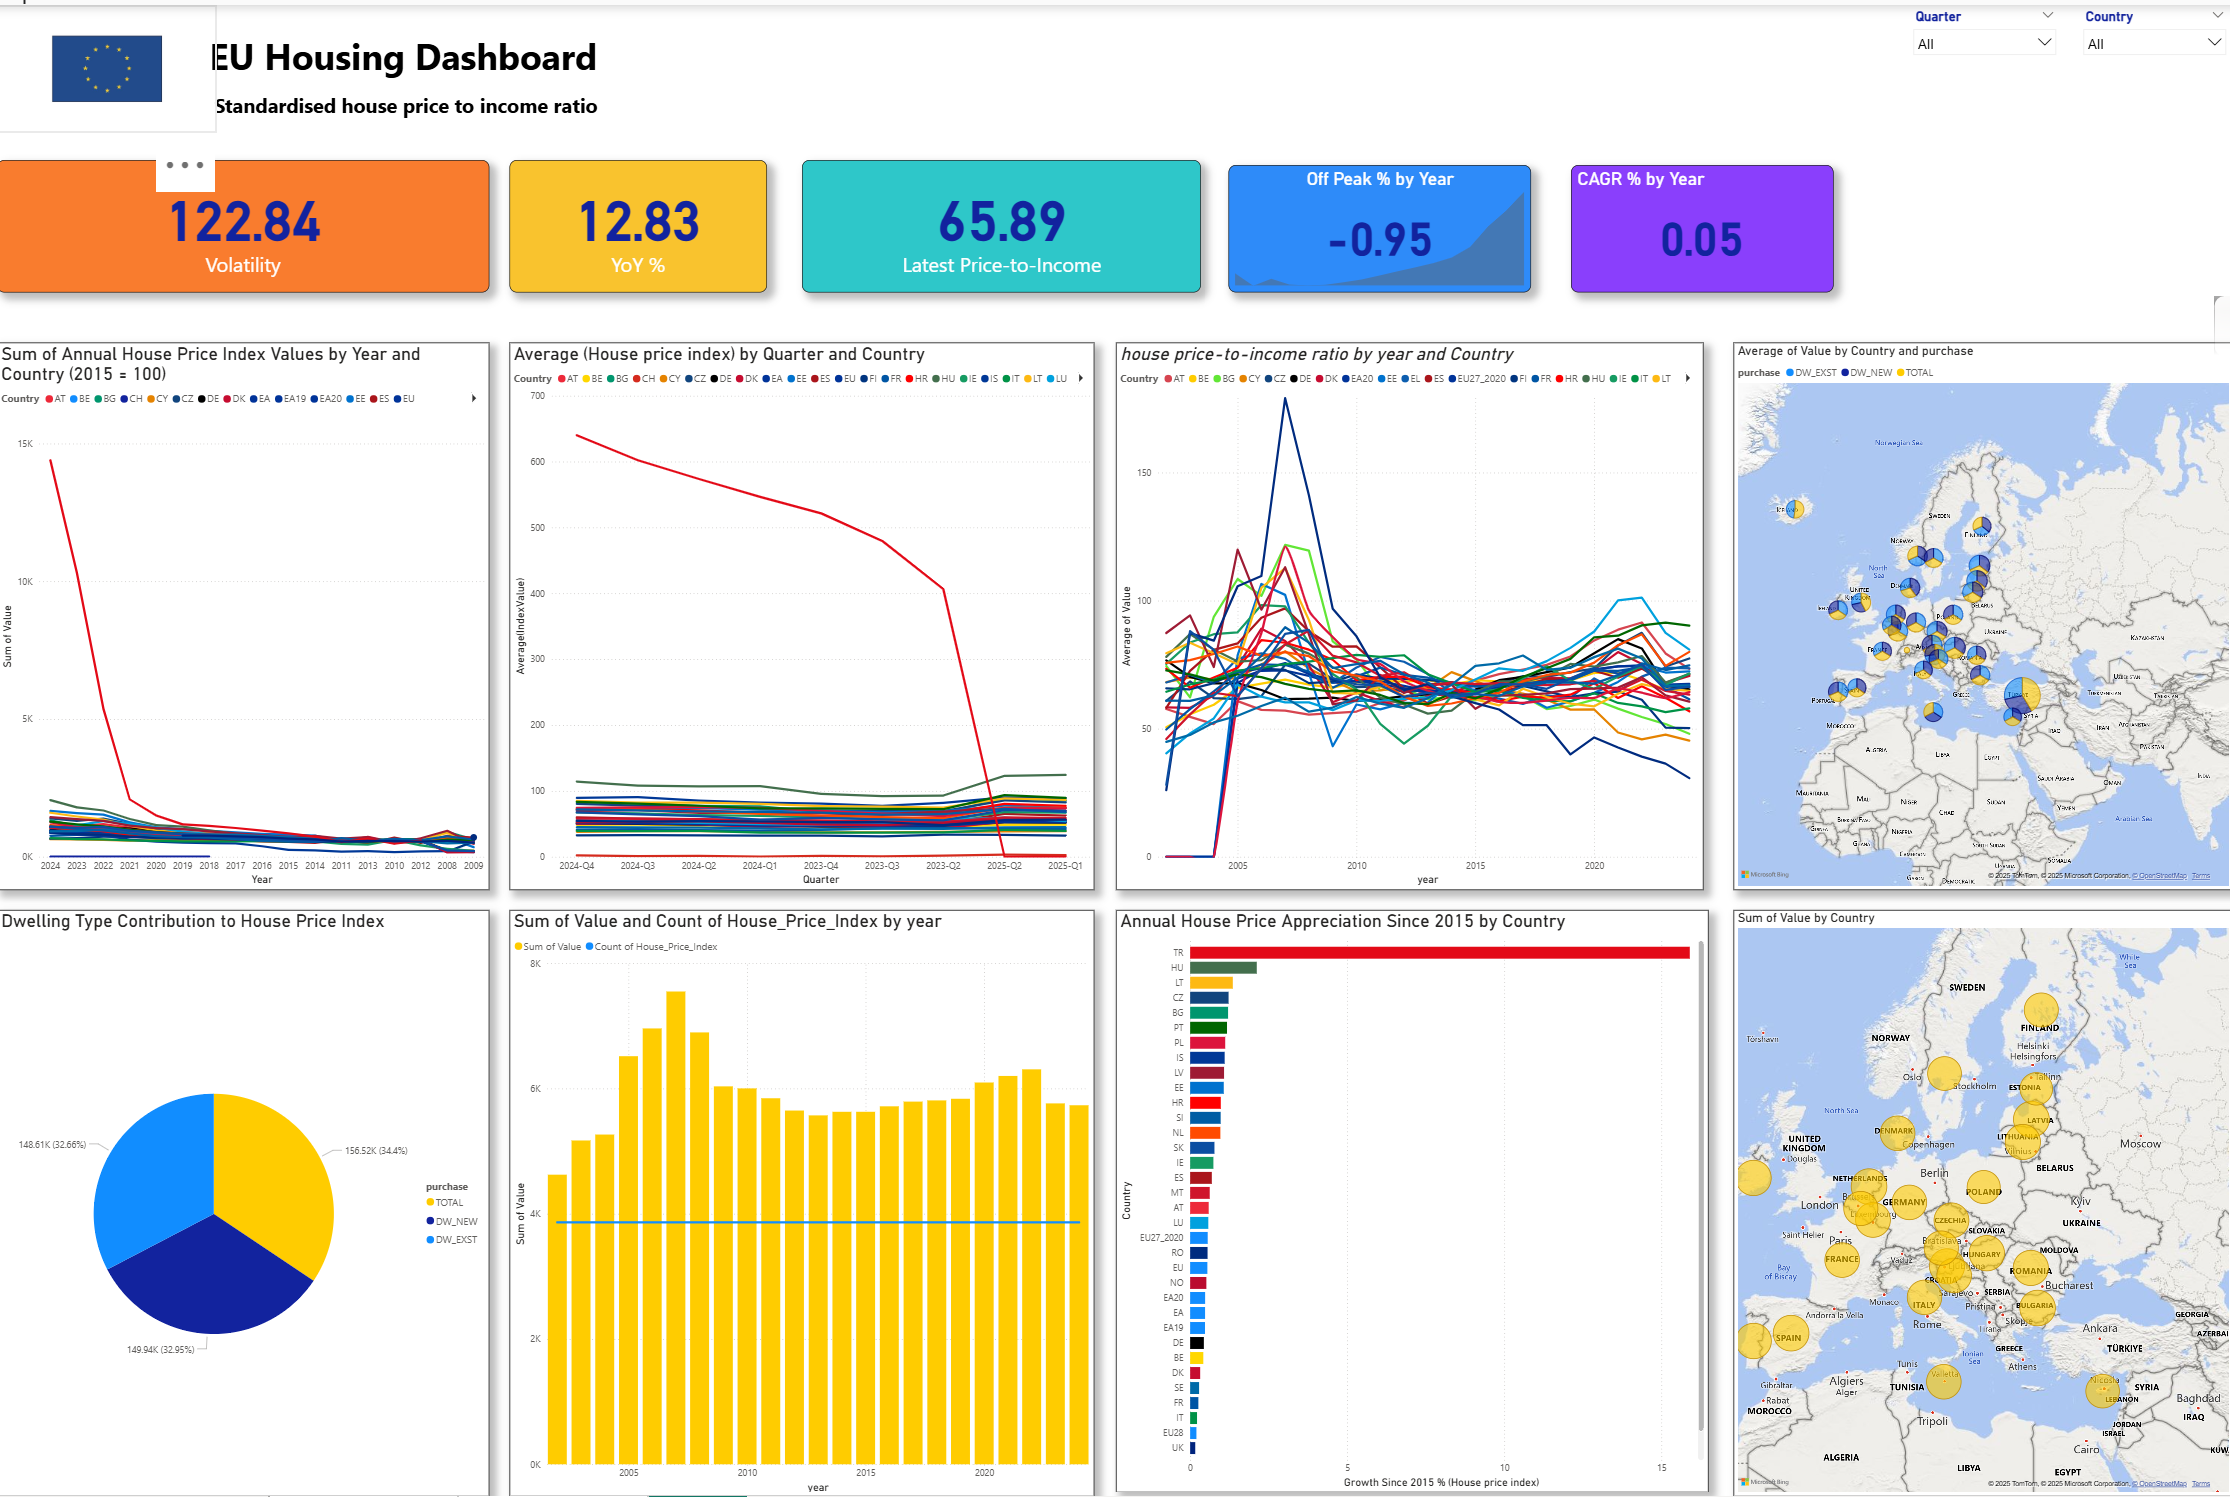

What the dashboard file says about the page in this screenshot:
{"tool":"powerbi","page":{"name":"Page 1","canvas":[3000,2000],"ordinal":0},"visuals":[{"type":"lineChart","title":"Average (House price index) by Quarter and Country","fields":{"Y":["Clean.Average(IndexValue)"],"Category":["Clean.Quarter"],"Series":["Clean.Country"]},"box":[687,452.4,784.2,733.9],"z":0},{"type":"lineChart","title":"house price-to-income ratio by year and Country","fields":{"Category":["year.year"],"Series":["year.Country"],"Y":["Avg(year.Value)"]},"box":[1501.3,452.4,787.5,733.9],"z":1000},{"type":"lineStackedColumnComboChart","fields":{"Y2":["CountNonNull(house price-to-income ratio.House_Price_Index)"],"Category":["year.year"],"Y":["Sum(year.Value)"]},"box":[687,1213.1,784.2,787.5],"z":2000},{"type":"map","fields":{"Category":["year.Country"],"Size":["Sum(year.Value)"]},"box":[2329.1,1213.1,670.2,787.5],"z":3000},{"type":"pieChart","title":"Dwelling Type Contribution to House Price Index","fields":{"Category":["Sheet1.purchase"],"Y":["Sum(Sheet1.Value)"]},"box":[0,1213.1,660.2,787.5],"z":4000},{"type":"lineChart","title":"Sum of Annual House Price Index Values by Year and Country (2015 = 100)","fields":{"Category":["Sheet1.Year"],"Y":["Sum(Sheet1.Value)"],"Series":["Sheet1.Country"]},"box":[0,452.4,660.2,733.9],"z":5000},{"type":"map","fields":{"Category":["Sheet1.Country"],"Series":["Sheet1.purchase"],"Size":["Avg(Sheet1.Value)"]},"box":[2329.1,452.4,670.2,733.9],"z":6000},{"type":"barChart","title":"Annual House Price Appreciation Since 2015 by Country","fields":{"Y":["Clean.Growth Since 2015 %"],"Category":["Sheet1.Country"]},"box":[1501.3,1213.1,794.2,780.8],"z":7000},{"type":"kpi","title":"Off Peak % by Year ","fields":{"Indicator":["Clean.Off Peak %"],"TrendLine":["Sheet1.Year - Copy"]},"box":[1652.2,214.5,405.5,170.9],"z":8000},{"type":"card","fields":{"Values":["Clean.Volatility"]},"box":[0,207.8,660.2,177.6],"z":9000},{"type":"textbox","box":[110.6,30.2,868,177.6],"z":10000},{"type":"card","fields":{"Values":["Clean.YoY1 %"]},"box":[687,207.8,345.2,177.6],"z":11000},{"type":"kpi","title":"CAGR % by Year ","fields":{"Indicator":["Clean.CAGR %"],"TrendLine":["Sheet1.Year - Copy"]},"box":[2111.3,214.5,351.9,170.9],"z":12000},{"type":"card","fields":{"Values":["Clean.Latest Price-to-Income"]},"box":[1079.1,207.8,536.2,177.6],"z":13000},{"type":"image","box":[0,0,294.9,170.9],"z":14000},{"type":"slicer","fields":{"Values":["Clean.Country"]},"box":[2788.2,0,211.1,87.1],"z":14001},{"type":"slicer","fields":{"Values":["Clean.Quarter"]},"box":[2560.3,0,211.1,87.1],"z":14002}]}

Visuals, with their boxes in screenshot pixels (x1, y1, x2, y2), scaled from the page's 3000x2000 canvas onto the 2230x1497 screenshot:
"Average (House price index) by Quarter and Country" lineChart: {"x1": 511, "y1": 339, "x2": 1094, "y2": 888}
"house price-to-income ratio by year and Country" lineChart: {"x1": 1116, "y1": 339, "x2": 1701, "y2": 888}
lineStackedColumnComboChart - CountNonNull(house price-to-income ratio.House_Price_Index) x year.year: {"x1": 511, "y1": 908, "x2": 1094, "y2": 1496}
map - year.Country x Sum(year.Value): {"x1": 1731, "y1": 908, "x2": 2229, "y2": 1496}
"Dwelling Type Contribution to House Price Index" pieChart: {"x1": 0, "y1": 908, "x2": 491, "y2": 1496}
"Sum of Annual House Price Index Values by Year and Country (2015 = 100)" lineChart: {"x1": 0, "y1": 339, "x2": 491, "y2": 888}
map - Sheet1.Country x Sheet1.purchase: {"x1": 1731, "y1": 339, "x2": 2229, "y2": 888}
"Annual House Price Appreciation Since 2015 by Country" barChart: {"x1": 1116, "y1": 908, "x2": 1706, "y2": 1492}
"Off Peak % by Year " kpi: {"x1": 1228, "y1": 161, "x2": 1530, "y2": 288}
card - Clean.Volatility: {"x1": 0, "y1": 156, "x2": 491, "y2": 288}
textbox: {"x1": 82, "y1": 23, "x2": 727, "y2": 156}
card - Clean.YoY1 %: {"x1": 511, "y1": 156, "x2": 767, "y2": 288}
"CAGR % by Year " kpi: {"x1": 1569, "y1": 161, "x2": 1831, "y2": 288}
card - Clean.Latest Price-to-Income: {"x1": 802, "y1": 156, "x2": 1201, "y2": 288}
image: {"x1": 0, "y1": 0, "x2": 219, "y2": 128}
slicer - Clean.Country: {"x1": 2073, "y1": 0, "x2": 2229, "y2": 65}
slicer - Clean.Quarter: {"x1": 1903, "y1": 0, "x2": 2060, "y2": 65}
